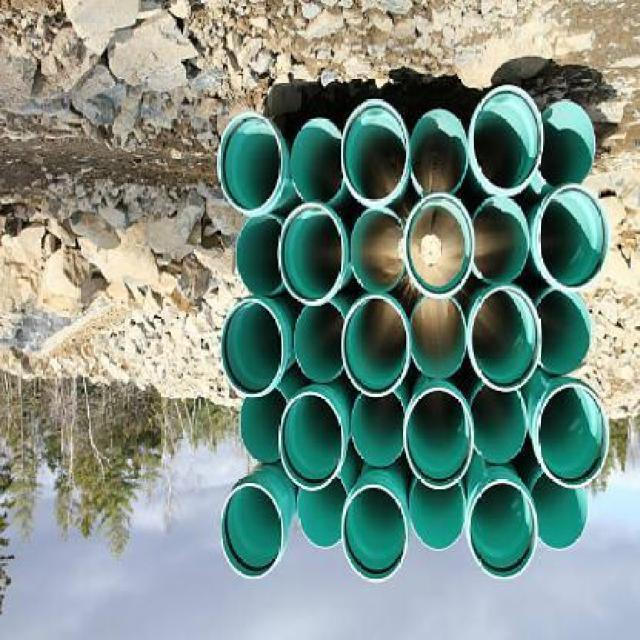pipe: (536, 382, 610, 488), (403, 192, 477, 297), (472, 85, 545, 191), (403, 382, 474, 488), (537, 182, 608, 288), (341, 294, 414, 397), (468, 477, 539, 582), (342, 99, 410, 207), (217, 113, 285, 214), (279, 202, 345, 304), (342, 483, 410, 582), (279, 391, 345, 490), (220, 480, 285, 579), (222, 297, 285, 396), (472, 196, 531, 285), (537, 99, 596, 187), (532, 288, 591, 374), (411, 108, 470, 194), (409, 291, 466, 379), (351, 206, 407, 292), (470, 382, 528, 464), (291, 118, 345, 205), (529, 471, 588, 550), (351, 391, 407, 468), (409, 477, 466, 551), (296, 302, 345, 384), (237, 214, 285, 296), (297, 475, 350, 548), (239, 388, 288, 462)
